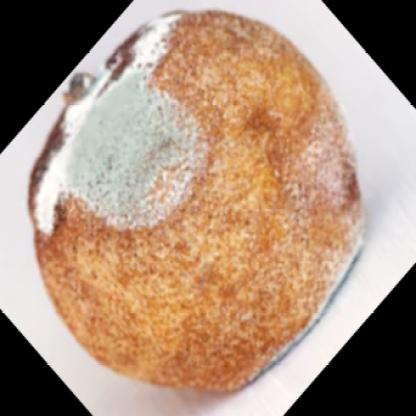rotten: (26, 12, 365, 393)
